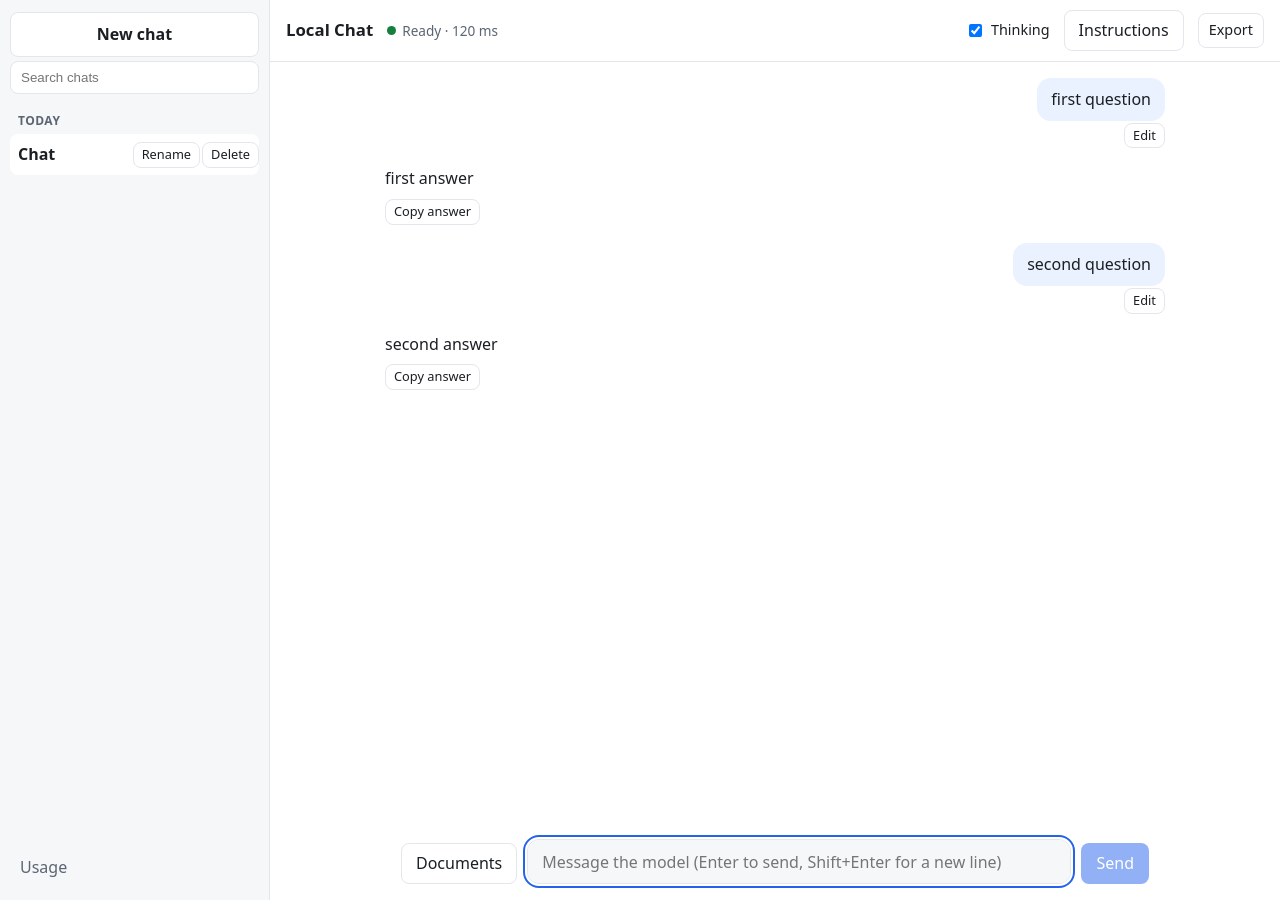
it: editing a message › replaces the message and everything after it with a new answer
The width and height of the screenshot is (1280, 900).
Expected: the text "second answer" is shown, x1=385 y1=333 x2=498 y2=355
Click the button "Edit" below "second question" at [1145, 301], box x1=1124 y1=288 x2=1165 y2=314
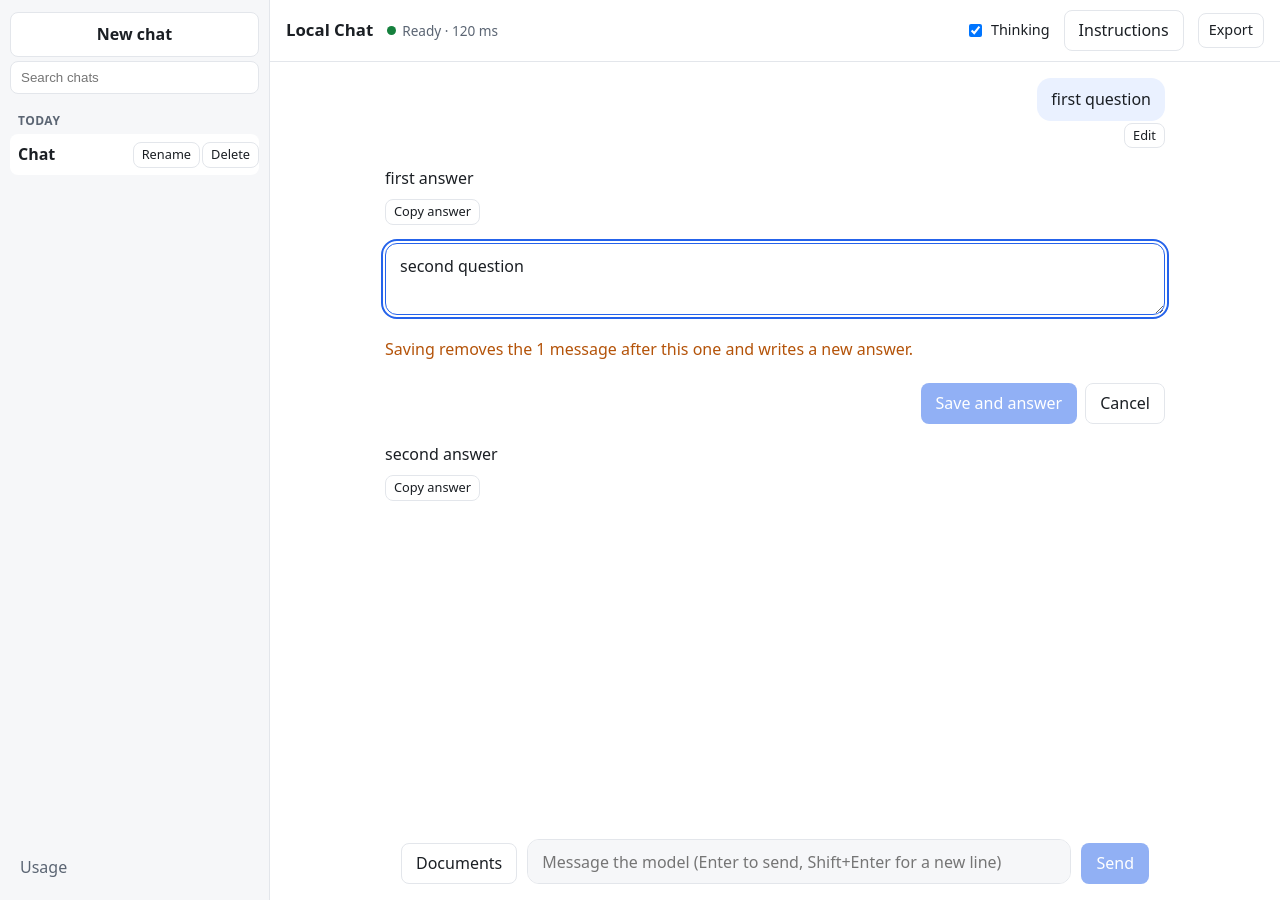
Expected: the text "Saving removes the 1 message after this one and writes a new answer." is shown, x1=385 y1=338 x2=913 y2=360
Replace the text in the text box named "Edit message" with "a better second question" at [775, 279], box x1=385 y1=243 x2=1165 y2=315
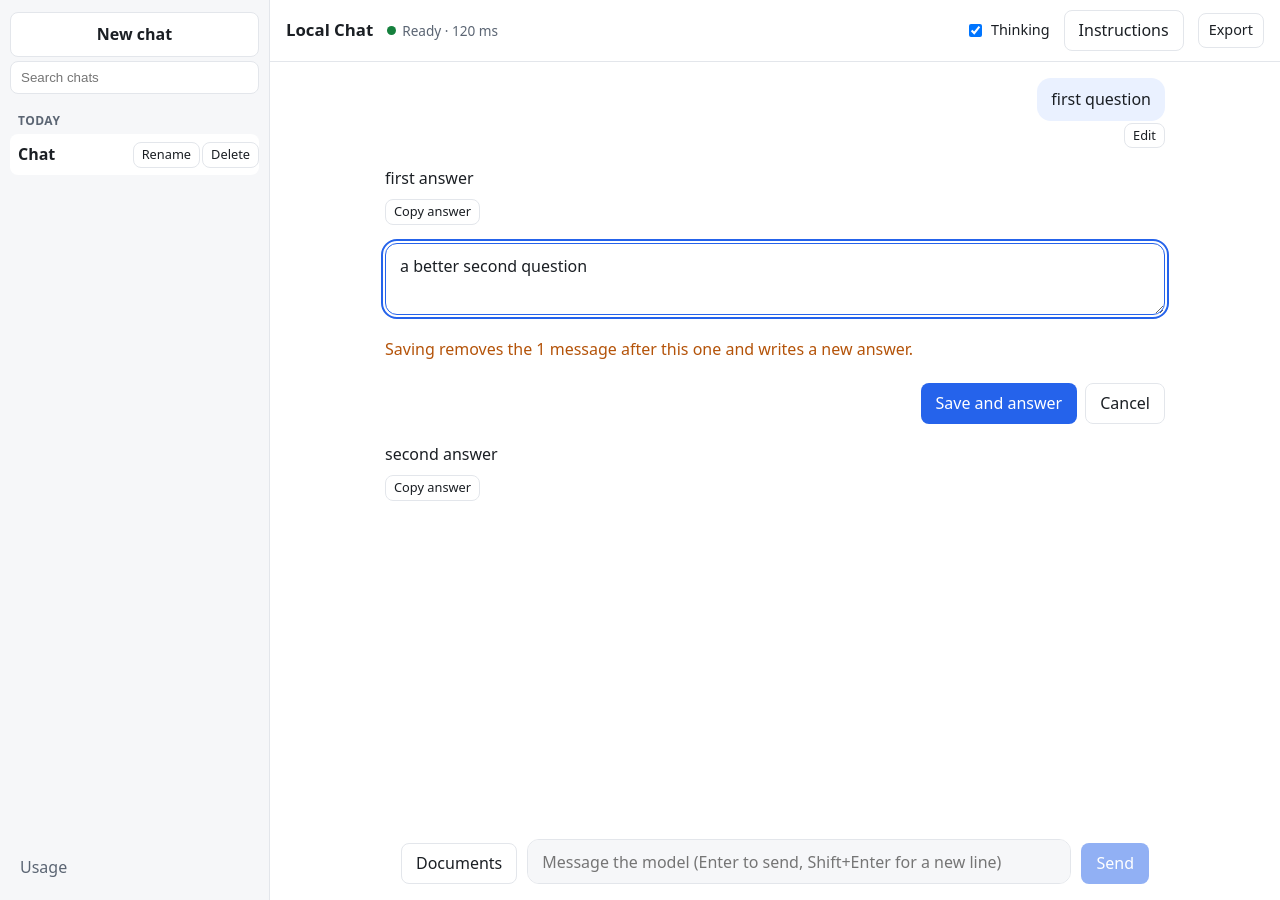
Click the button "Save and answer" at [999, 404], box x1=920 y1=383 x2=1077 y2=424
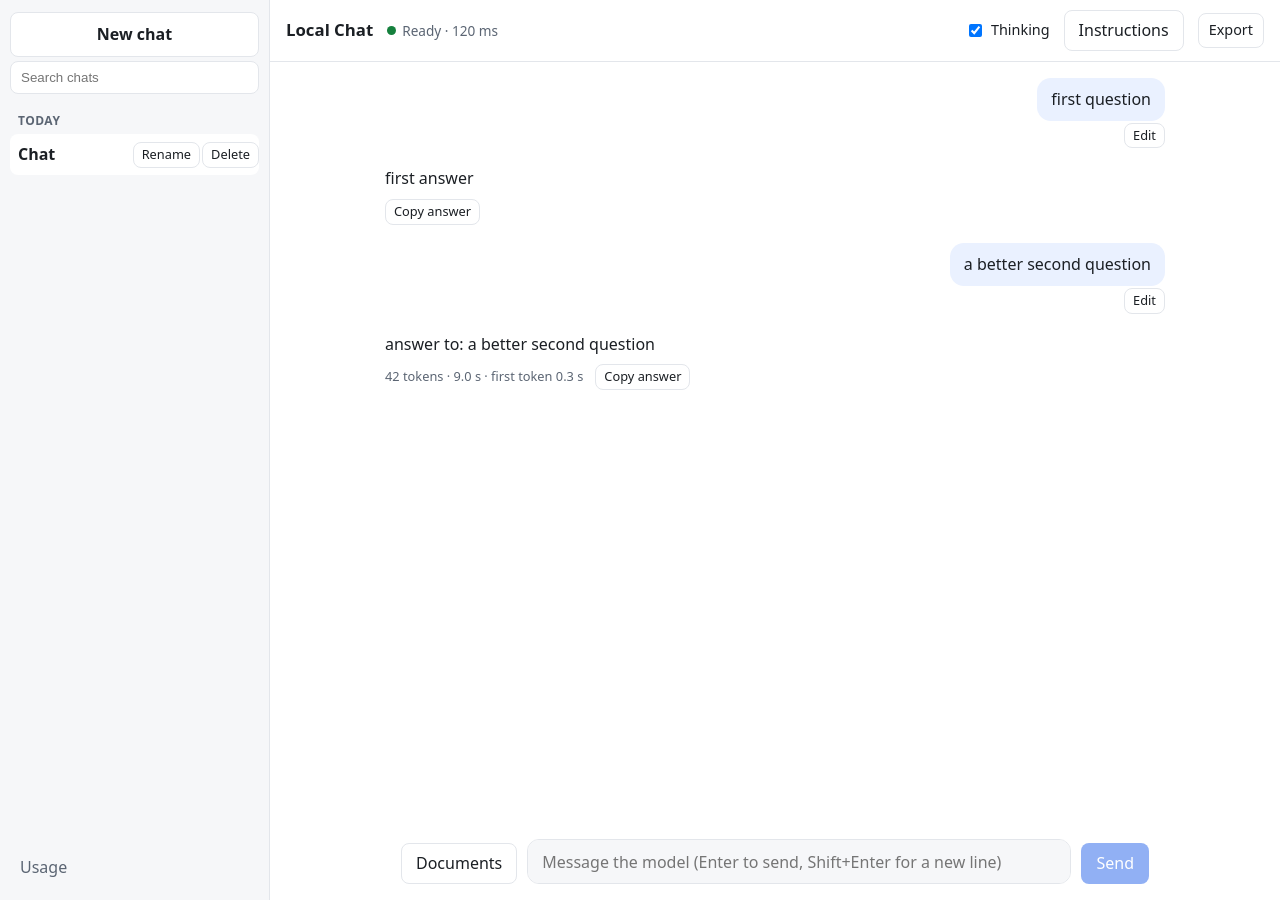
Expected: the text "first answer" is shown, x1=385 y1=167 x2=474 y2=189
Expected: the text "answer to: a better second question" is shown, x1=385 y1=333 x2=655 y2=355
Expected: the text "second answer" is gone
